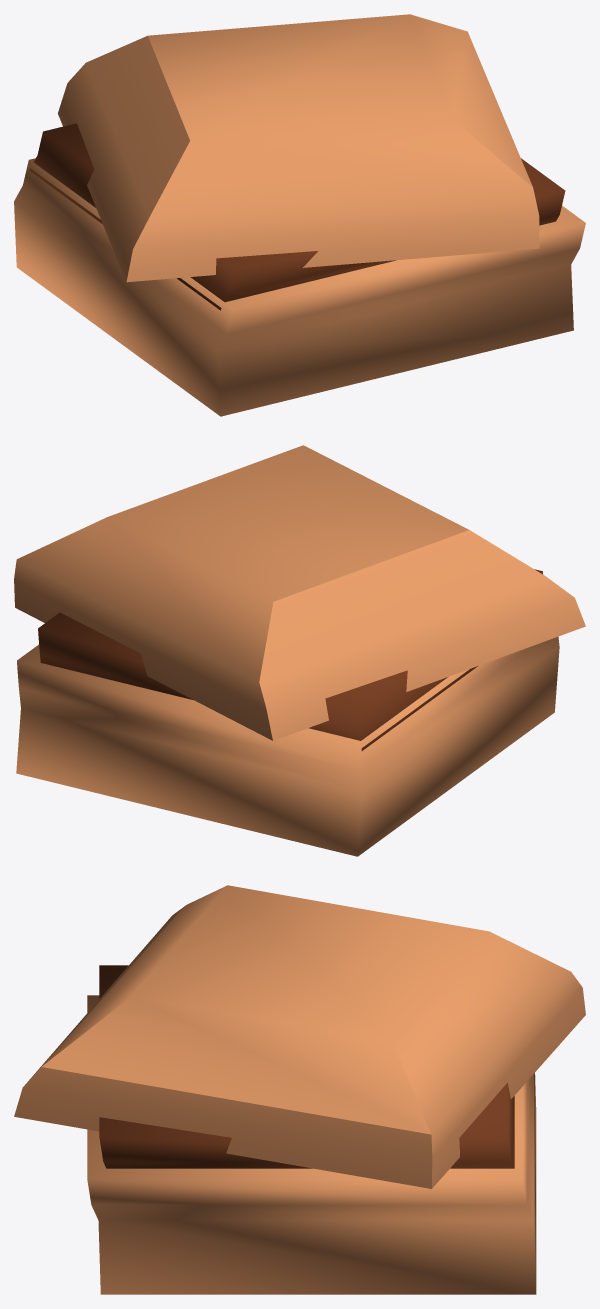
Rendered from Hamburger.glb.
3 renders of one model, top to bottom at view 1: azimuth 30°, elevation 25°; view 2: azimuth 150°, elevation 25°; view 3: azimuth 270°, elevation 25°, orthographic. The views are drawn at different scales.
Visible parts, largest first — view 1: Cubo.002, Cubo, Cubo.001; view 2: Cubo.002, Cubo, Cubo.001; view 3: Cubo.002, Cubo, Cubo.001.
Boxes of the visible parts, box(x1,y1,x2,y2) form: Cubo.002: box(58, 14, 539, 282); Cubo: box(14, 158, 585, 416); Cubo.001: box(29, 123, 565, 310); Cubo.002: box(14, 445, 585, 740); Cubo: box(16, 636, 559, 856); Cubo.001: box(38, 569, 543, 750); Cubo.002: box(14, 885, 585, 1188); Cubo: box(87, 995, 536, 1294); Cubo.001: box(99, 965, 514, 1168).
Size of the model in its own units: 6.05 by 2.8 by 6.
